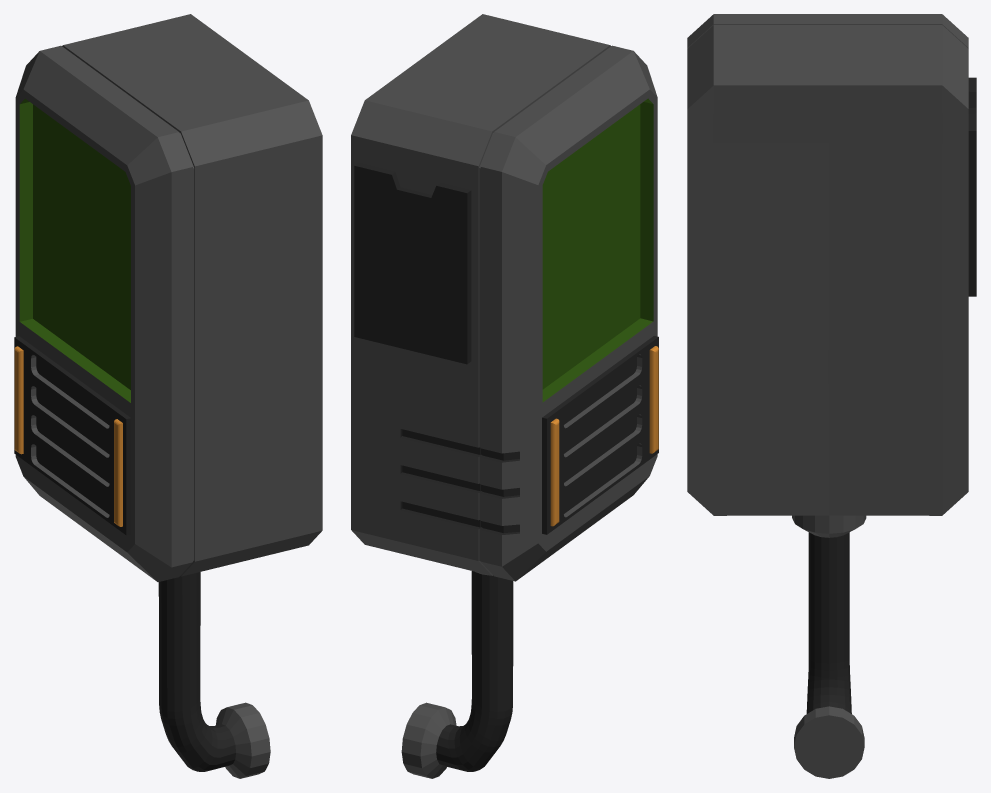
Rendered from terminal7.fbx.
The picture shows the model from 3 angles, left to right: view 1: azimuth 30°, elevation 25°; view 2: azimuth 150°, elevation 25°; view 3: azimuth 270°, elevation 25°; orthographic projection. The views are drawn at different scales.
Visible parts, largest first — view 1: terminal7; view 2: terminal7; view 3: terminal7.
Part boxes in pixels (x1,y1,x2,y2): terminal7: (14, 14, 322, 778); terminal7: (351, 14, 658, 778); terminal7: (687, 14, 976, 778).
Size of the model in its own units: 1.22 by 1.69 by 4.46.
